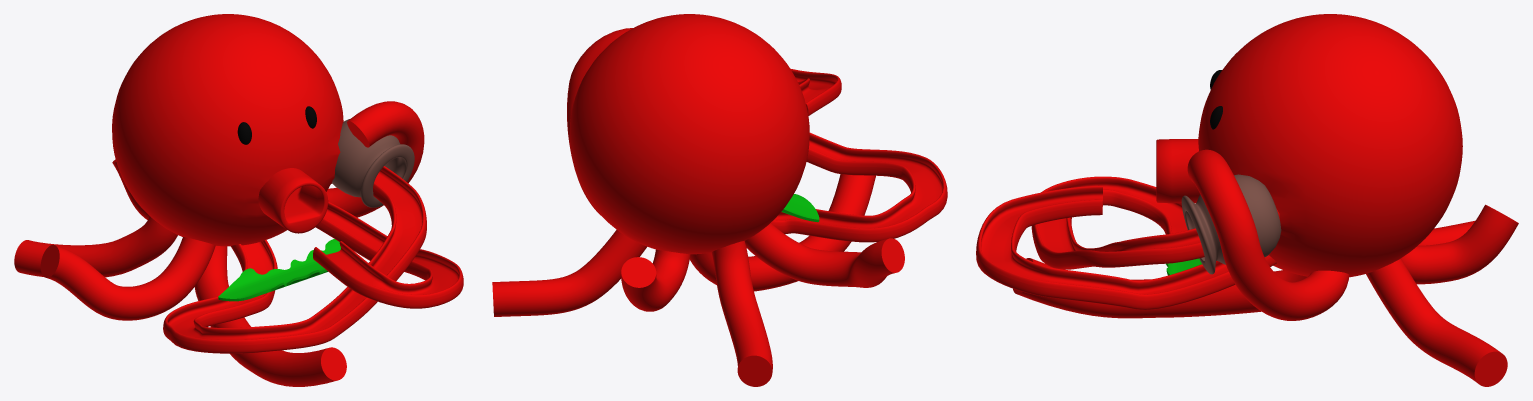
The model's file is miscart_octpas.fbx.
3 renders of one model, left to right at view 1: azimuth 30°, elevation 25°; view 2: azimuth 150°, elevation 25°; view 3: azimuth 270°, elevation 25°, orthographic. The views are drawn at different scales.
Visible parts, largest first — view 1: tako_head.001, leg_01.001, leg_02.001, leg_03.001, leg_04.001, leg_05.001, tsubo.001, leg_08.001, tako_mouse.001, wakame.002, tako_eye.001; view 2: tako_head.001, leg_01.001, leg_03.001, leg_07.001, leg_05.001, leg_04.001, leg_06.001, leg_02.001, leg_08.001, wakame.002; view 3: tako_head.001, leg_02.001, leg_08.001, leg_01.001, leg_07.001, leg_06.001, leg_04.001, tsubo.001, tako_mouse.001, leg_05.001.
Boxes of the visible parts, x1=… form: tako_head.001: x1=112, y1=14, x2=343, y2=246; leg_01.001: x1=163, y1=166, x2=426, y2=353; leg_02.001: x1=313, y1=201, x2=463, y2=308; leg_03.001: x1=40, y1=237, x2=215, y2=320; leg_04.001: x1=194, y1=246, x2=346, y2=386; leg_05.001: x1=14, y1=216, x2=177, y2=277; tsubo.001: x1=332, y1=119, x2=414, y2=207; leg_08.001: x1=326, y1=101, x2=424, y2=217; tako_mouse.001: x1=258, y1=168, x2=332, y2=233; wakame.002: x1=218, y1=239, x2=340, y2=301; tako_eye.001: x1=237, y1=106, x2=316, y2=144; tako_head.001: x1=569, y1=14, x2=809, y2=254; leg_01.001: x1=771, y1=132, x2=947, y2=242; leg_03.001: x1=745, y1=223, x2=904, y2=287; leg_07.001: x1=492, y1=229, x2=646, y2=316; leg_05.001: x1=711, y1=241, x2=772, y2=386; leg_04.001: x1=689, y1=174, x2=875, y2=291; leg_06.001: x1=621, y1=249, x2=690, y2=311; leg_02.001: x1=790, y1=68, x2=841, y2=115; leg_08.001: x1=567, y1=28, x2=632, y2=215; wakame.002: x1=781, y1=194, x2=819, y2=222; tako_head.001: x1=1198, y1=14, x2=1462, y2=277; leg_02.001: x1=976, y1=185, x2=1276, y2=309; leg_08.001: x1=1187, y1=149, x2=1349, y2=320; leg_01.001: x1=1031, y1=176, x2=1204, y2=269; leg_07.001: x1=1366, y1=258, x2=1507, y2=386; leg_06.001: x1=1401, y1=204, x2=1518, y2=284; leg_04.001: x1=1013, y1=258, x2=1307, y2=318; tsubo.001: x1=1181, y1=174, x2=1281, y2=274; tako_mouse.001: x1=1156, y1=139, x2=1279, y2=219; leg_05.001: x1=1418, y1=220, x2=1475, y2=245.
Size of the model in its own units: 2969 by 2265 by 3522.
